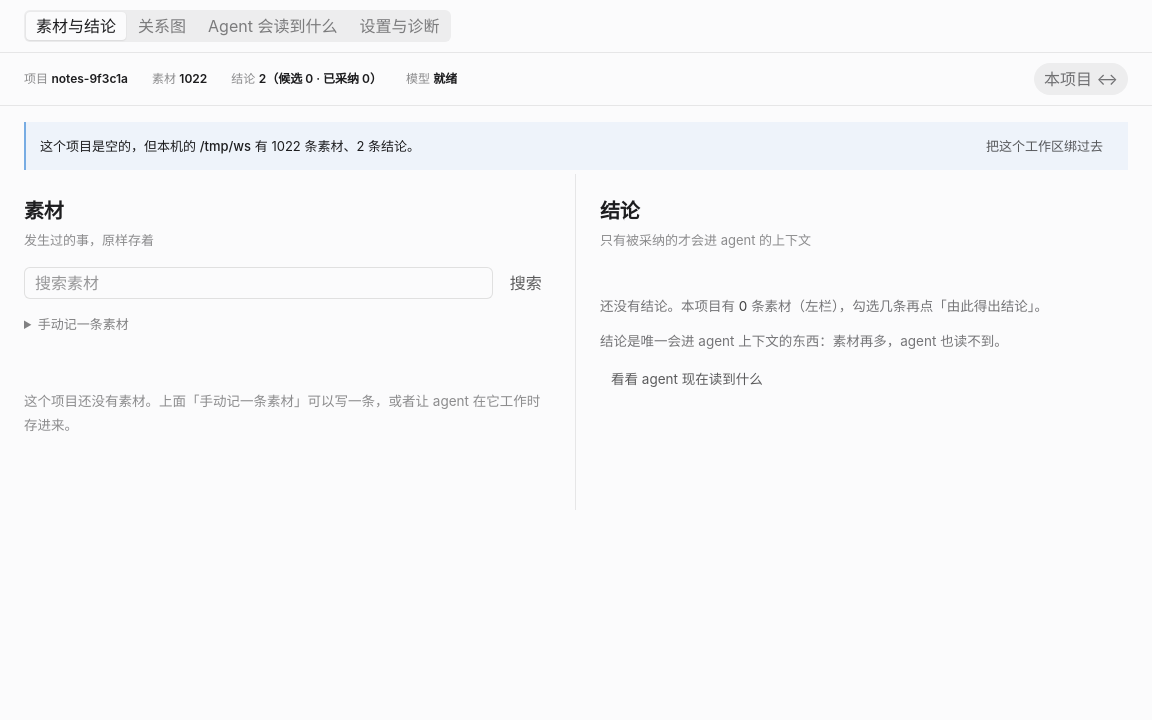
it: MemoryPanel › counts what the scope covers, not just this project
What coordinates should you click on to do the following:
click the button "本项目 ↔"
I would click on:
 (1081, 79)
Its box is [1034,63,1128,95].
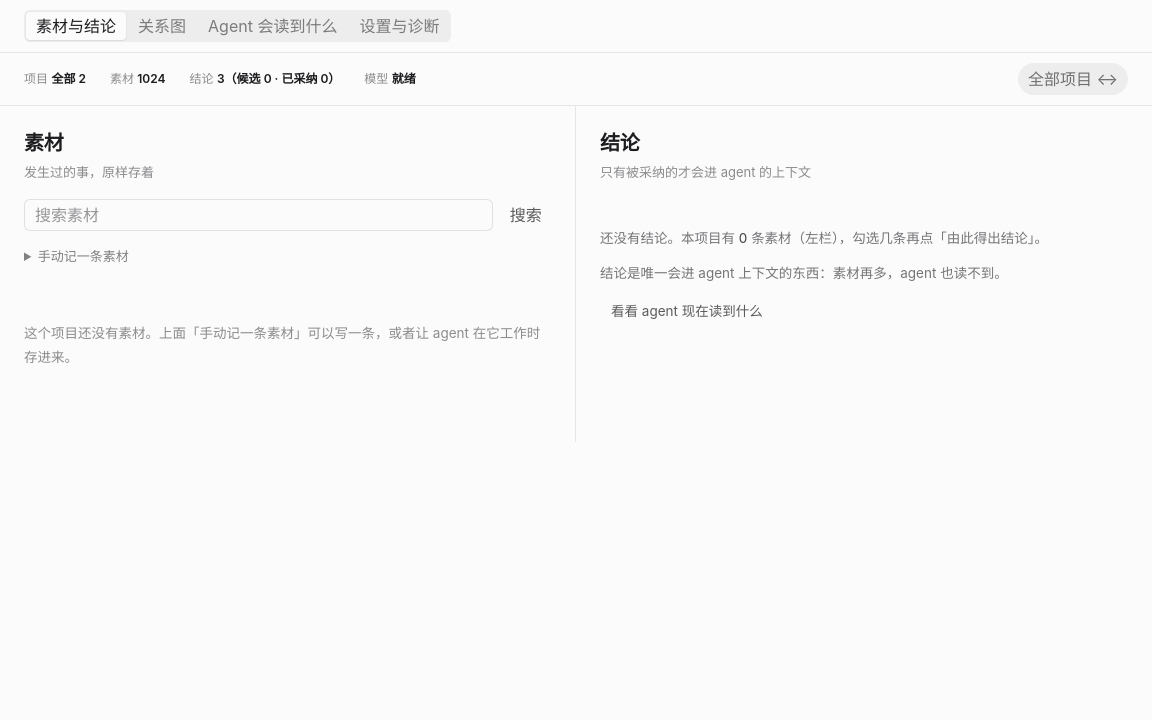
Check: the text "素材 1024" is shown, box [110,69,166,89]
Check: the text "全部 2" is shown, box [51,71,86,86]
